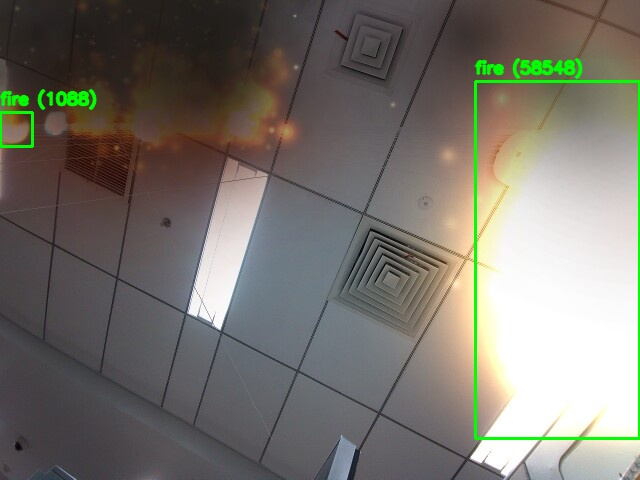fire: (475, 81, 639, 438), (0, 112, 32, 146)
